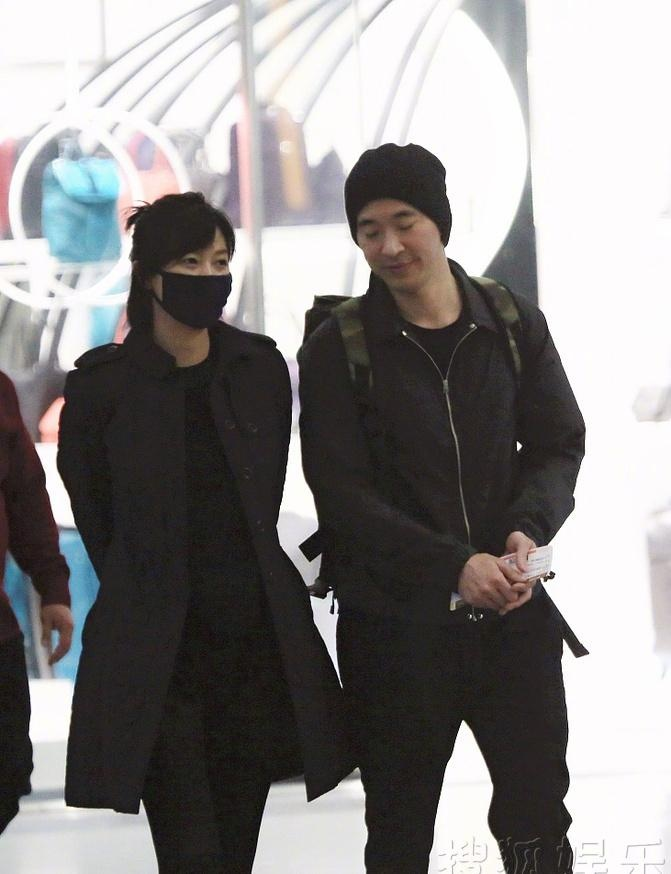Mask: (153, 239, 241, 328)
